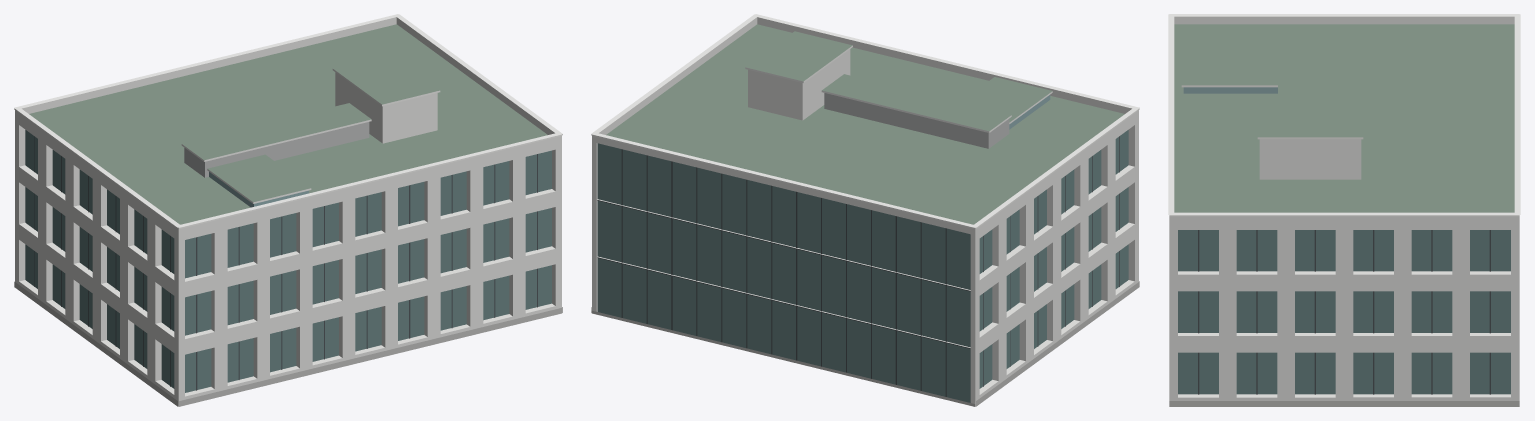
3 renders of one model, left to right at view 1: azimuth 30°, elevation 25°; view 2: azimuth 150°, elevation 25°; view 3: azimuth 270°, elevation 25°, orthographic. The views are drawn at different scales.
Visible parts, largest first — view 1: history__wall, history__roof, history__glass, history__parapet, history__trim, history__base, history__frame, history__roofMetal; view 2: history__glass, history__roof, history__wall, history__parapet, history__trim, history__frame, history__roofMetal, history__base; view 3: history__roof, history__wall, history__glass, history__trim, history__parapet, history__base, history__frame, history__roofGlass.
Part boxes in pixels (<box>): history__wall: <box>15,72,561,406</box>; history__roof: <box>29,24,547,224</box>; history__glass: <box>25,130,551,392</box>; history__parapet: <box>15,17,561,234</box>; history__trim: <box>14,14,562,229</box>; history__base: <box>14,281,562,406</box>; history__frame: <box>34,136,537,390</box>; history__roofMetal: <box>184,122,369,177</box>; history__glass: <box>597,130,1128,402</box>; history__roof: <box>606,24,1124,224</box>; history__wall: <box>592,49,1138,406</box>; history__parapet: <box>592,17,1138,234</box>; history__trim: <box>591,14,1139,229</box>; history__frame: <box>597,136,1119,396</box>; history__roofMetal: <box>824,93,1009,148</box>; history__base: <box>591,281,1139,406</box>; history__roof: <box>1174,24,1514,212</box>; history__wall: <box>1169,139,1519,400</box>; history__glass: <box>1178,230,1510,394</box>; history__trim: <box>1168,14,1520,216</box>; history__parapet: <box>1169,16,1519,222</box>; history__base: <box>1169,401,1519,406</box>; history__frame: <box>1198,230,1490,394</box>; history__roofGlass: <box>1183,87,1277,93</box>.
Bounding box in the file's own units: 28.12 × 14.8 × 20.8.
